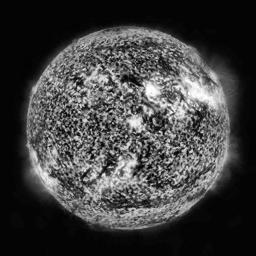solar flares: (179, 78, 214, 101), (116, 152, 134, 180), (143, 80, 164, 103), (81, 69, 103, 83), (128, 117, 147, 131)
sunspots: (106, 186, 147, 206), (56, 169, 90, 192), (90, 108, 107, 136), (141, 169, 166, 188), (114, 39, 156, 50), (134, 151, 153, 172), (155, 56, 178, 73), (191, 111, 201, 146), (147, 116, 169, 130), (100, 154, 116, 172), (119, 75, 141, 83)
